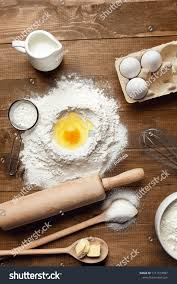Eggs: (123, 60, 143, 78)
